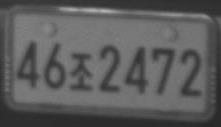2: (180, 49, 204, 97), (98, 45, 119, 93)
4: (124, 46, 150, 94), (16, 40, 41, 87)
6: (43, 42, 66, 89)
7: (152, 47, 175, 96)
조: (68, 51, 94, 92)
